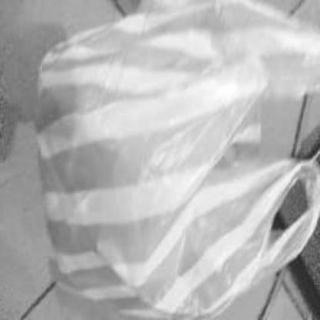objects: (27, 0, 320, 320)
